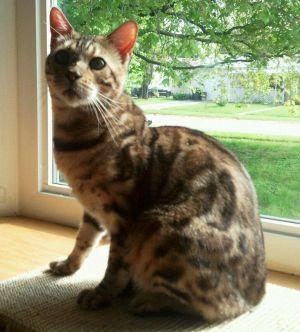bengal: (40, 2, 140, 120)
